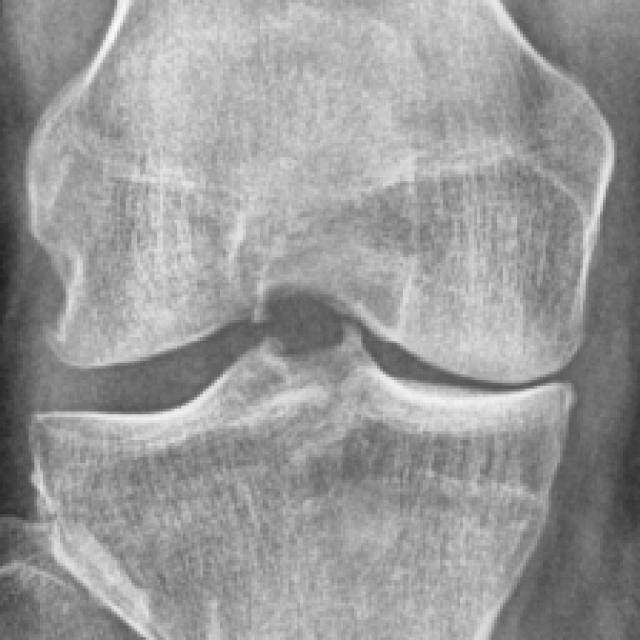femur: (31, 1, 609, 377)
tibia: (37, 334, 566, 637)
